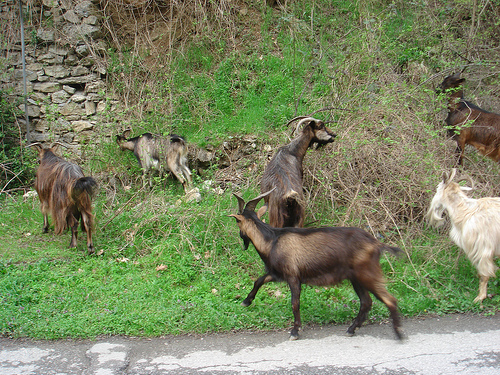goat: (227, 186, 406, 341), (424, 167, 500, 302), (257, 115, 337, 229), (27, 141, 101, 255), (434, 71, 500, 169), (114, 128, 195, 191)
